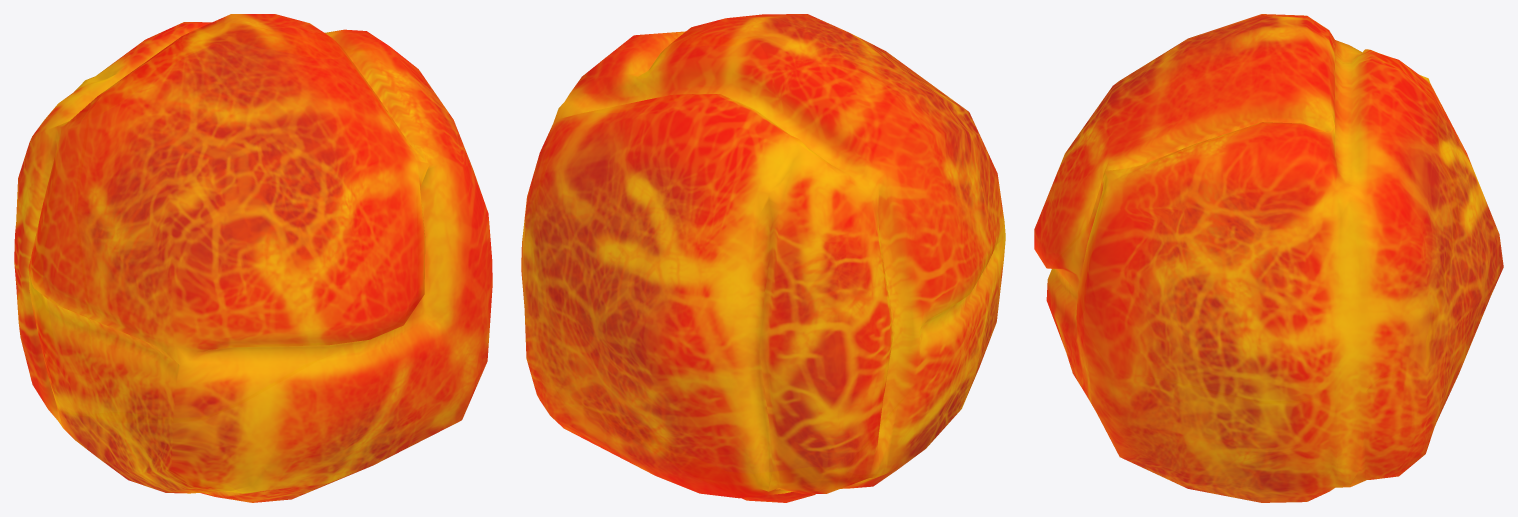
Rendered from magma-ball-projectile.glb.
3 renders of one model, left to right at view 1: azimuth 30°, elevation 25°; view 2: azimuth 150°, elevation 25°; view 3: azimuth 270°, elevation 25°, orthographic. The views are drawn at different scales.
Visible parts, largest first — view 1: Bolita fuego; view 2: Bolita fuego; view 3: Bolita fuego.
Boxes of the visible parts, x1=… form: Bolita fuego: x1=14, y1=14, x2=492, y2=502; Bolita fuego: x1=521, y1=14, x2=1005, y2=502; Bolita fuego: x1=1034, y1=14, x2=1503, y2=502.
Size of the model in its own units: 51.22 by 54.96 by 51.17.
1 material, 1 textured.
